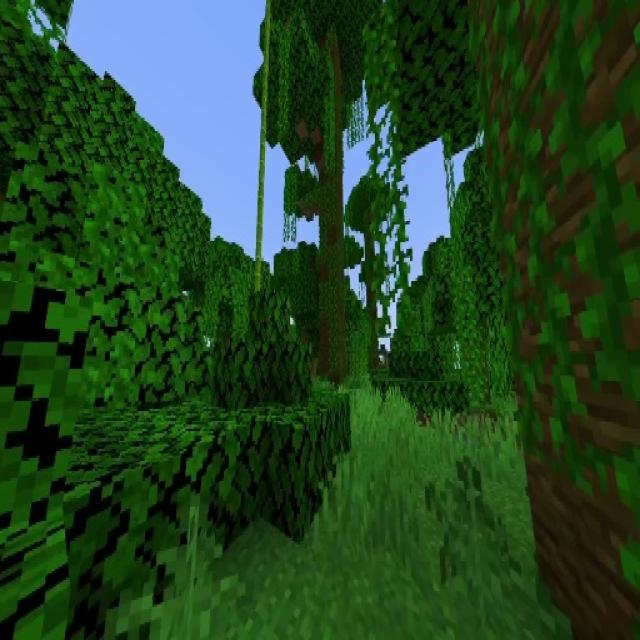jungle: (259, 10, 398, 389), (347, 177, 394, 380)
jungle_log: (478, 1, 640, 640), (322, 145, 346, 382)
